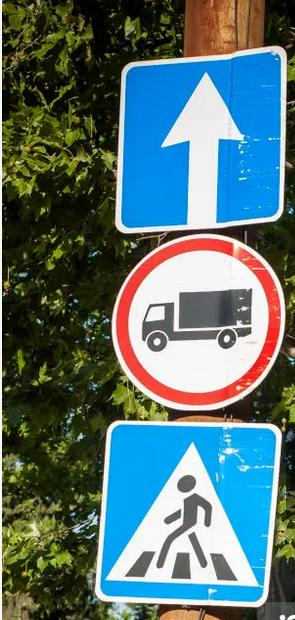road_sign: (94, 420, 283, 608), (115, 46, 287, 234), (111, 234, 286, 411)
